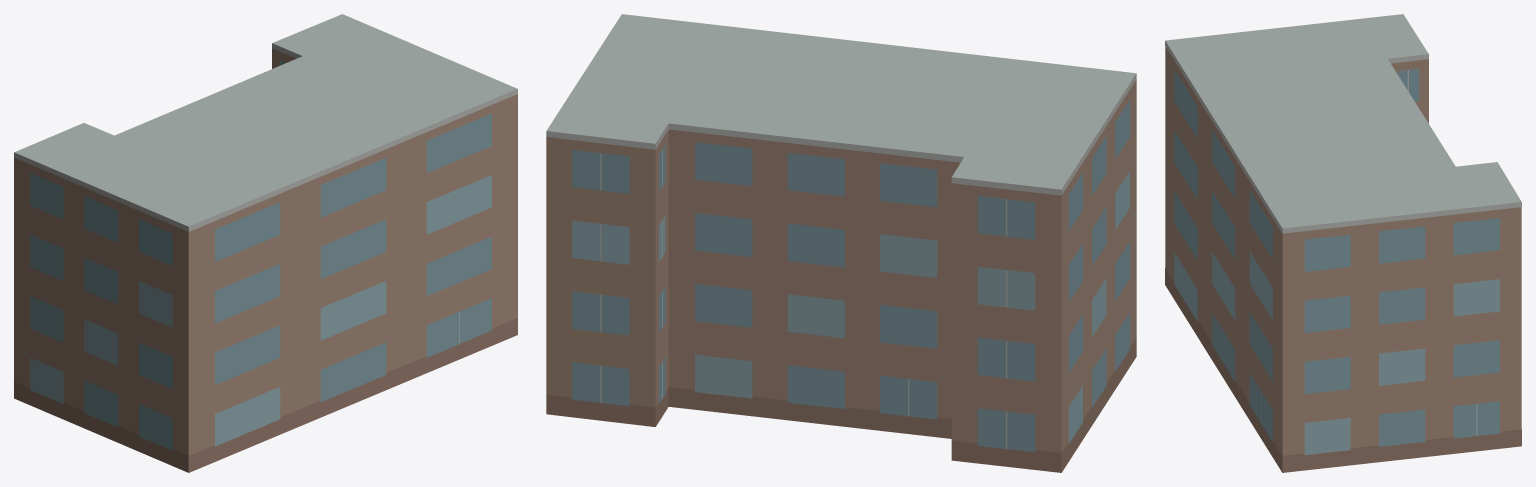
File: survey-upis-32711250.glb
The picture shows the model from 3 angles, left to right: view 1: azimuth 30°, elevation 25°; view 2: azimuth 150°, elevation 25°; view 3: azimuth 270°, elevation 25°; orthographic projection. The views are drawn at different scales.
Visible parts, largest first — view 1: survey-upis-32711250.tmp; view 2: survey-upis-32711250.tmp; view 3: survey-upis-32711250.tmp.
Part boxes in pixels (left/top/right/bottom): survey-upis-32711250.tmp: left=14, top=14, right=517, bottom=472; survey-upis-32711250.tmp: left=546, top=14, right=1136, bottom=472; survey-upis-32711250.tmp: left=1165, top=14, right=1521, bottom=472.
Bounding box in the file's own units: 21.95 × 11.65 × 15.42.
